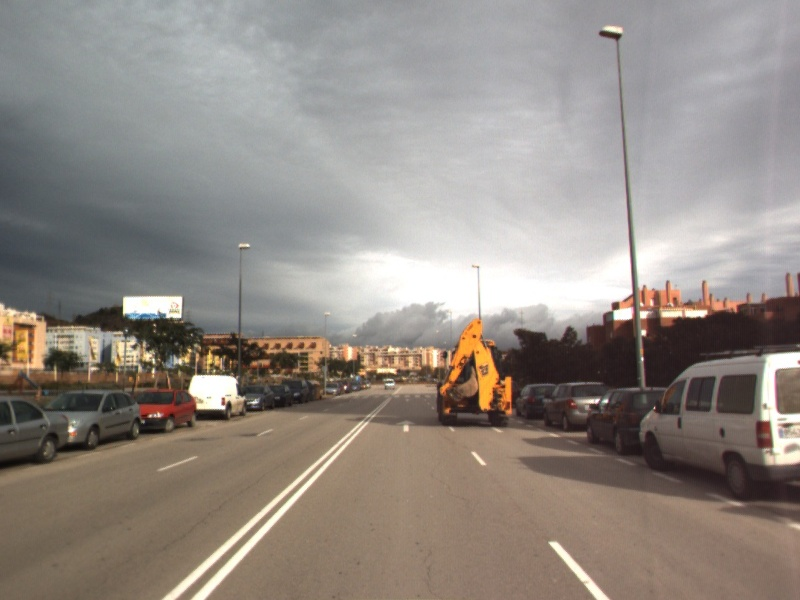STRAIGHT: (395, 418, 418, 433)
